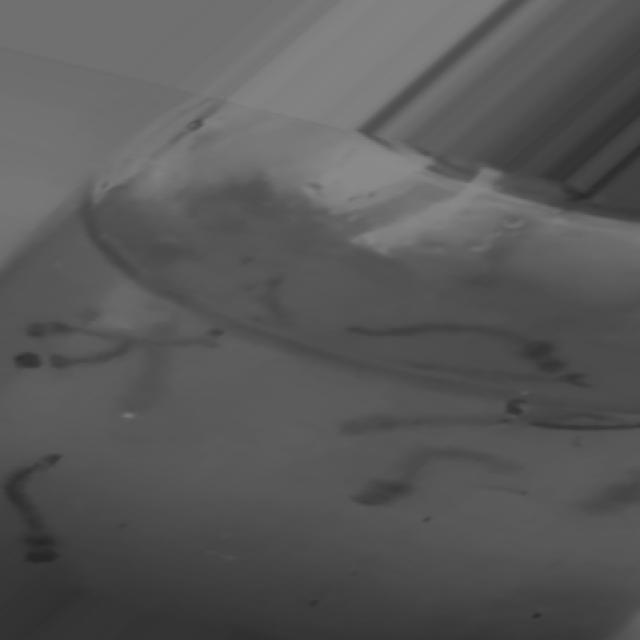larvas: (356, 303, 584, 370), (353, 446, 520, 514), (344, 401, 580, 448), (24, 308, 237, 356), (406, 356, 603, 393), (516, 401, 640, 441), (11, 343, 130, 374)
